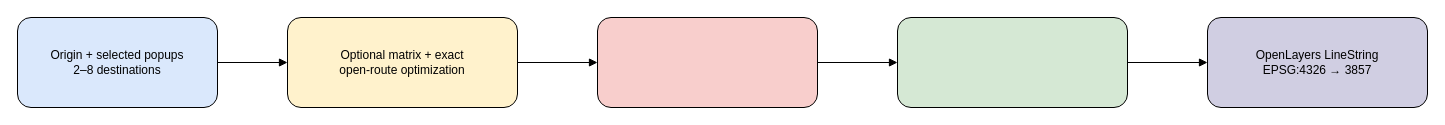
Some shapes in this 1445 by 125 pixel diagram are drawn without their labels. Here are the shapes that lost their labels. From the top down, the centre of each, then its label:
(x=707, y=62): Valhalla pedestrian route polyline6 legs
(x=1012, y=62): Backend full-shape decode [longitude, latitude]
